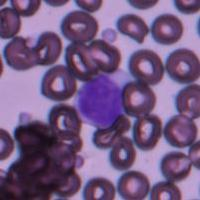L: (74, 72, 123, 127)
